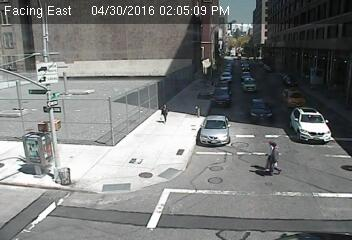neg: (9, 127, 38, 166), (36, 145, 63, 181), (184, 98, 203, 123), (53, 68, 70, 91)
pos: (263, 142, 289, 176), (157, 102, 173, 124)
